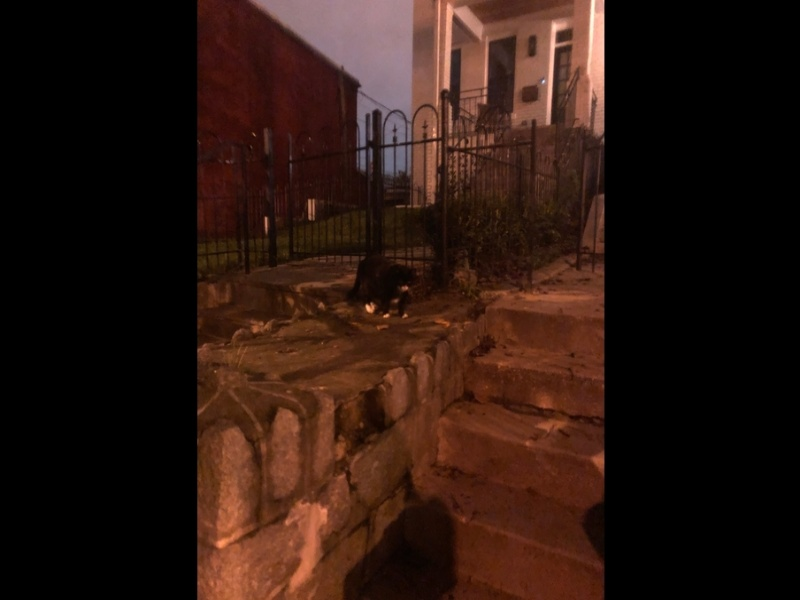cat: (345, 251, 418, 323)
